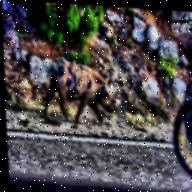boar: (38, 51, 117, 127)
